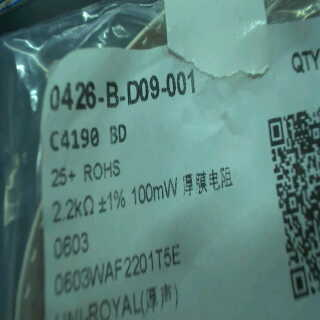2.2kR: (48, 194, 97, 224)
